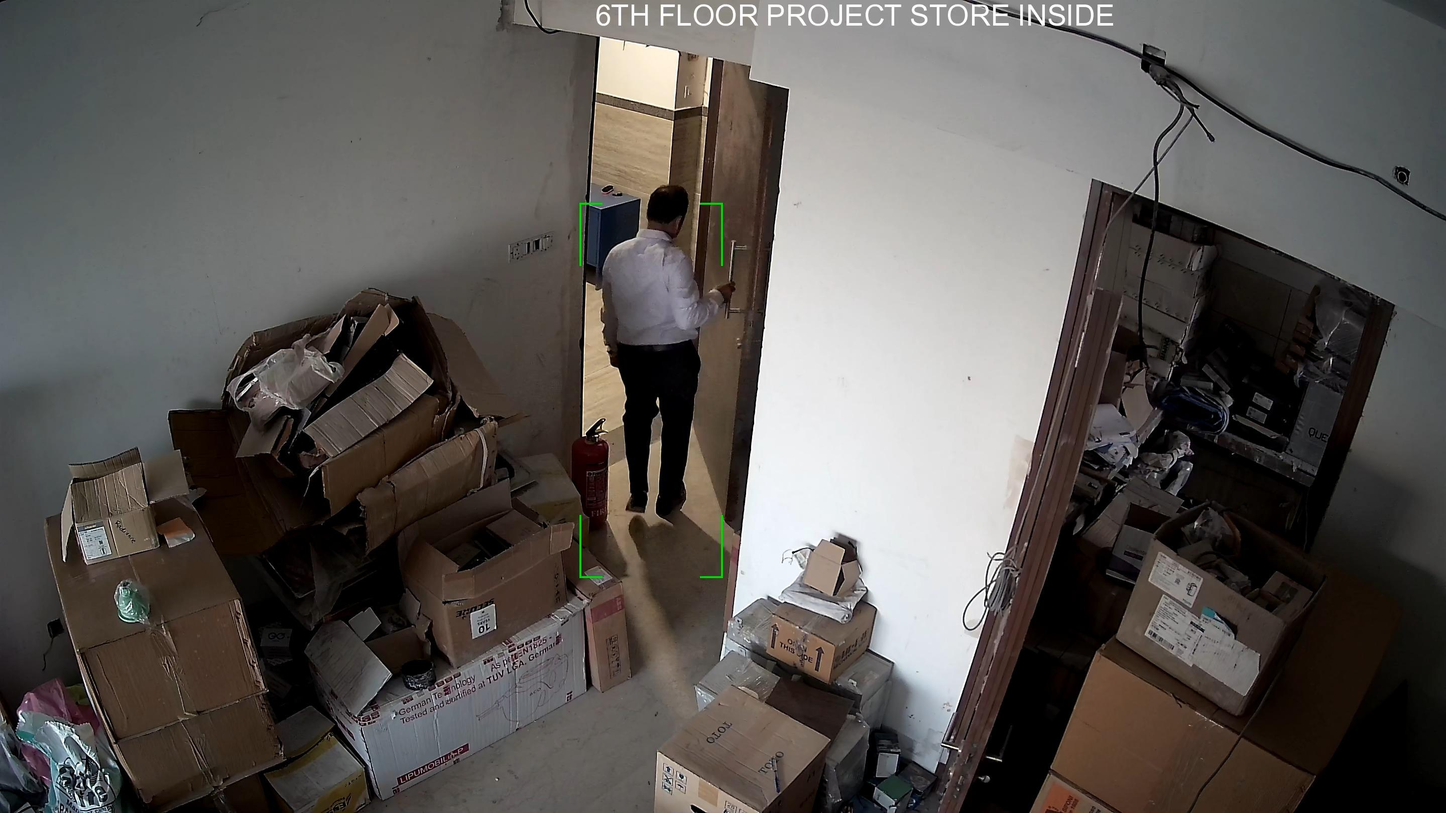Door-Open: (563, 32, 815, 554)
